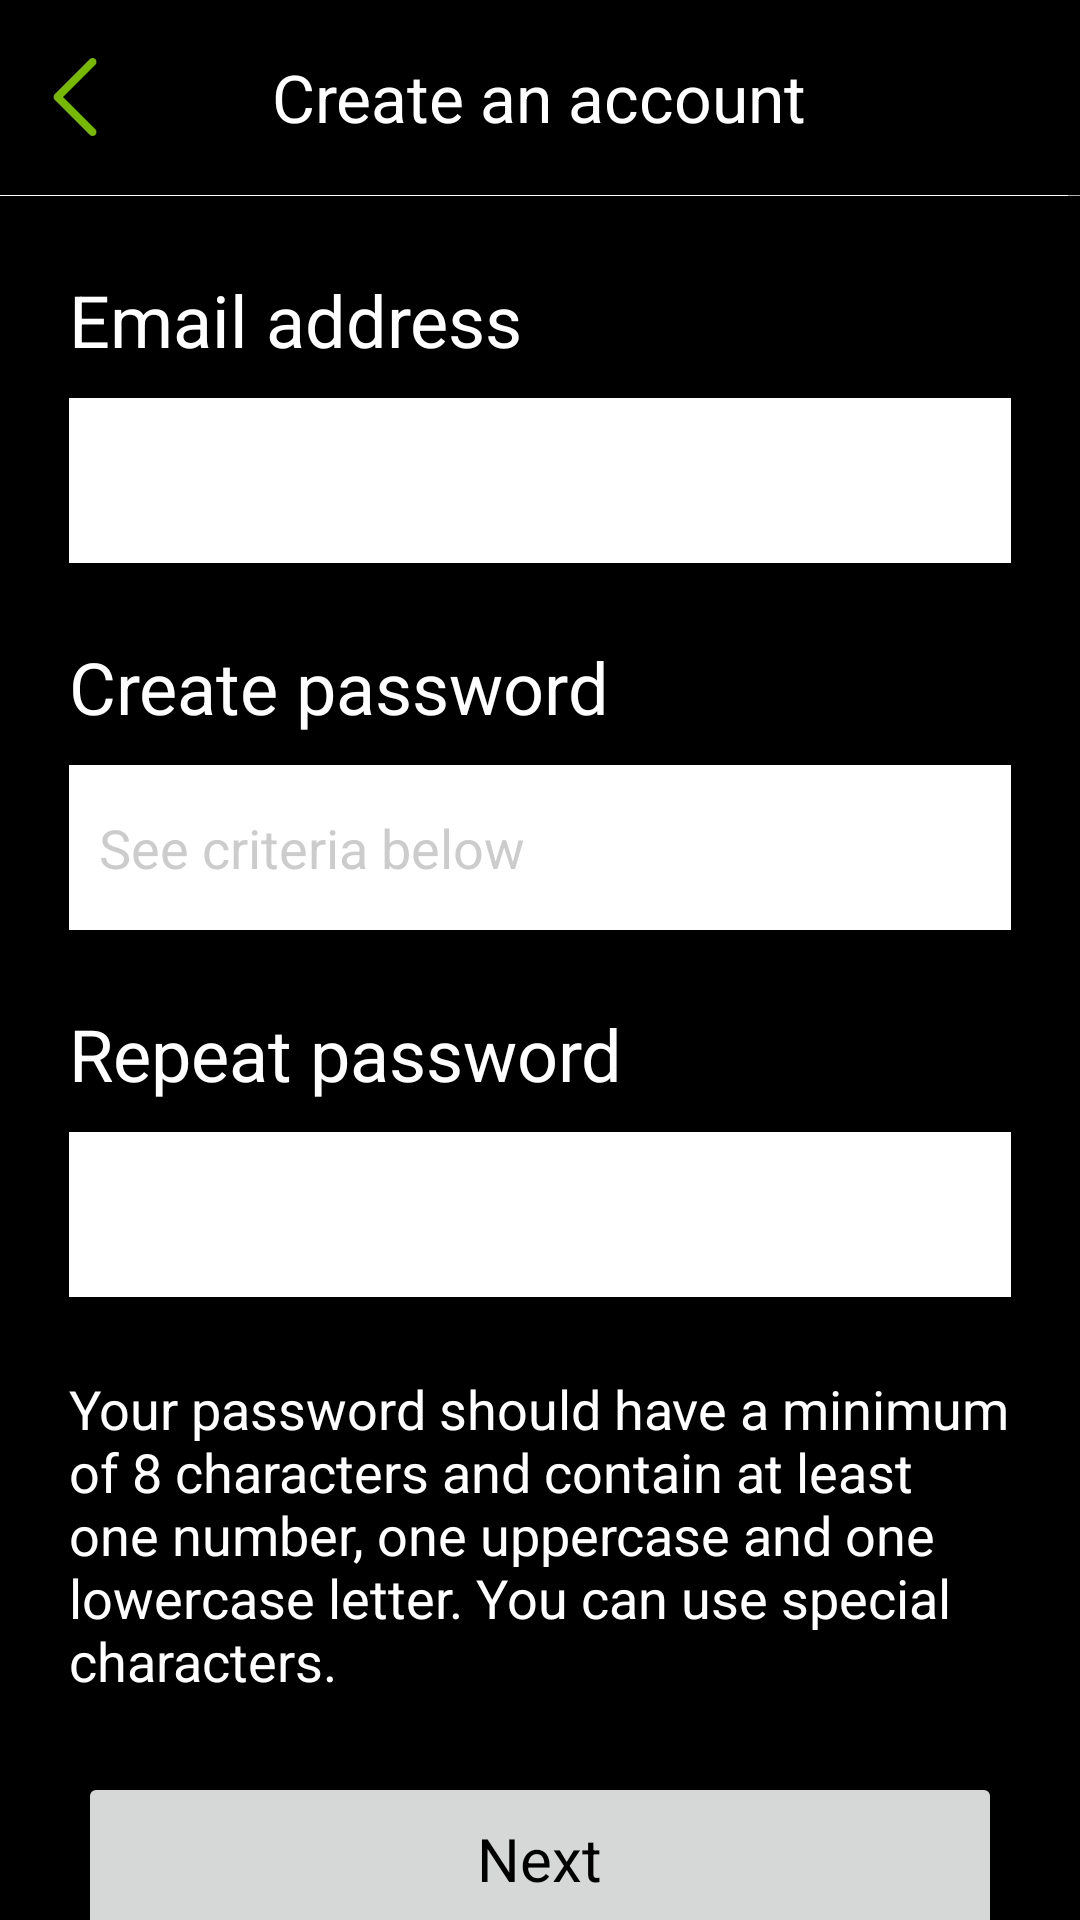

Icon click points for this 1080px×1920px phone screenshot, format point (x, y):
back: point (75, 97)
